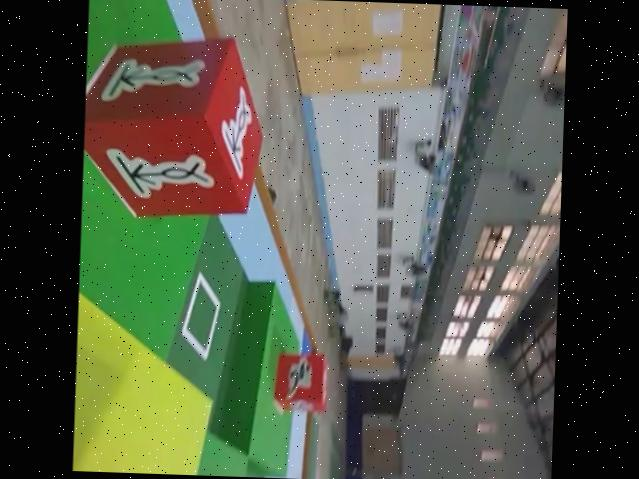R1: (267, 351, 329, 412)
R2 Real: (81, 29, 273, 225)
